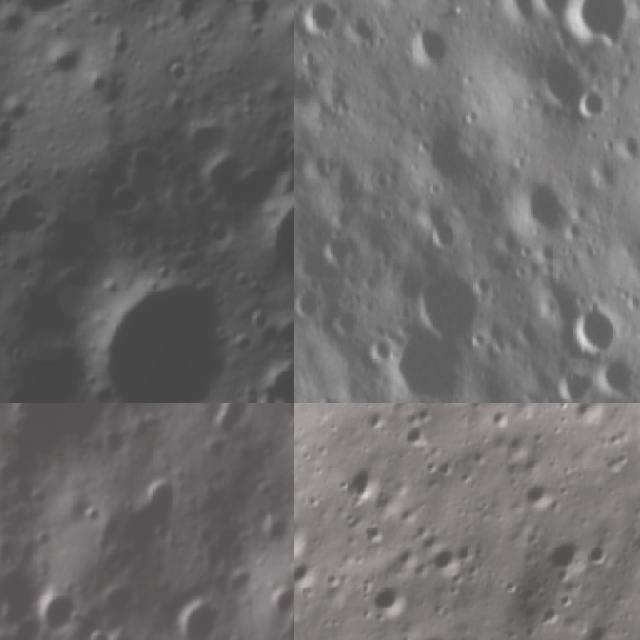crater: (62, 251, 261, 403), (0, 403, 223, 496), (83, 452, 196, 584), (0, 164, 65, 292), (0, 0, 101, 59), (244, 186, 294, 297), (171, 103, 237, 168), (19, 578, 83, 640), (570, 300, 630, 358), (407, 274, 473, 326), (167, 589, 228, 640), (203, 403, 267, 450), (574, 0, 640, 41), (508, 186, 572, 228), (252, 506, 294, 559), (295, 0, 355, 33), (497, 0, 566, 28), (406, 21, 447, 67), (593, 366, 640, 403), (430, 213, 466, 249), (296, 286, 324, 326), (576, 83, 602, 122), (268, 579, 294, 617), (78, 620, 121, 640), (372, 332, 394, 371), (555, 370, 580, 403), (279, 408, 294, 445), (297, 46, 319, 68), (307, 393, 347, 403)
